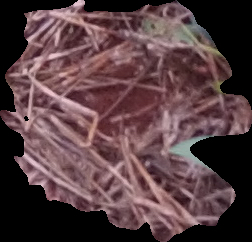soil: (1, 1, 251, 242)
